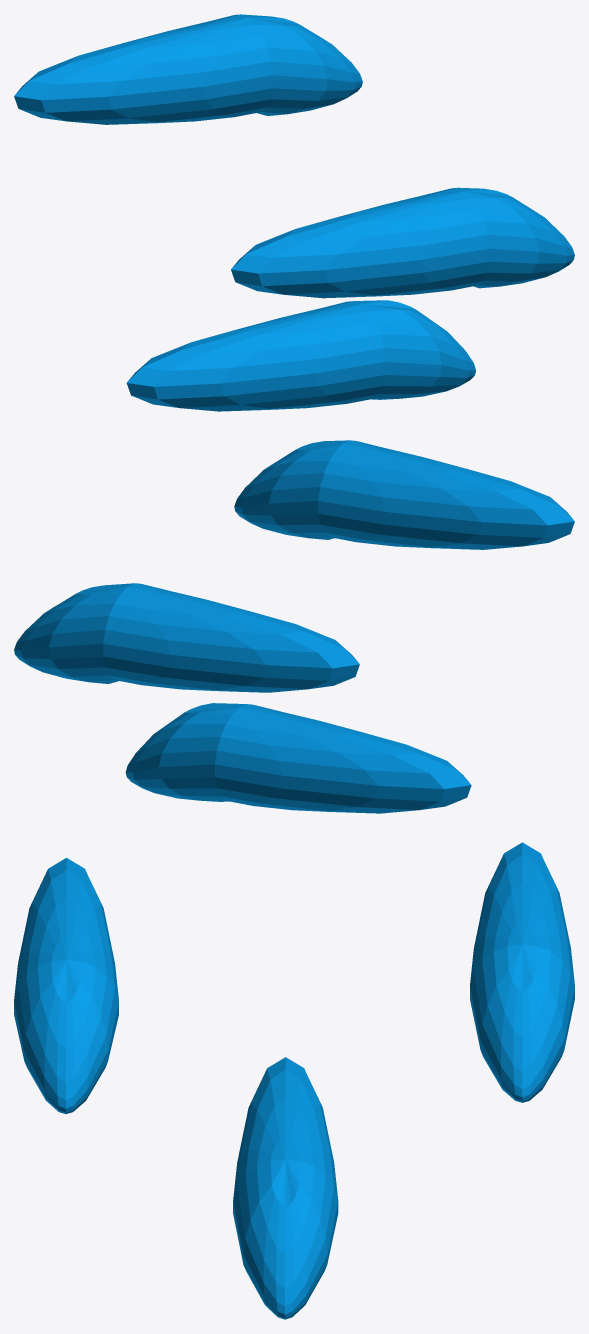
Rendered from htfucrabprojectile.fbx.
3 renders of one model, top to bottom at view 1: azimuth 30°, elevation 25°; view 2: azimuth 150°, elevation 25°; view 3: azimuth 270°, elevation 25°, orthographic. The views are drawn at different scales.
Parts seen in each view (by area): view 1: HtfuCrabProjectile; view 2: HtfuCrabProjectile; view 3: HtfuCrabProjectile.
Part boxes in pixels (x1=…): HtfuCrabProjectile: x1=14, y1=14, x2=574, y2=411; HtfuCrabProjectile: x1=14, y1=440, x2=574, y2=813; HtfuCrabProjectile: x1=14, y1=842, x2=574, y2=1319.
Size of the model in its own units: 60.72 by 51.52 by 80.52.
